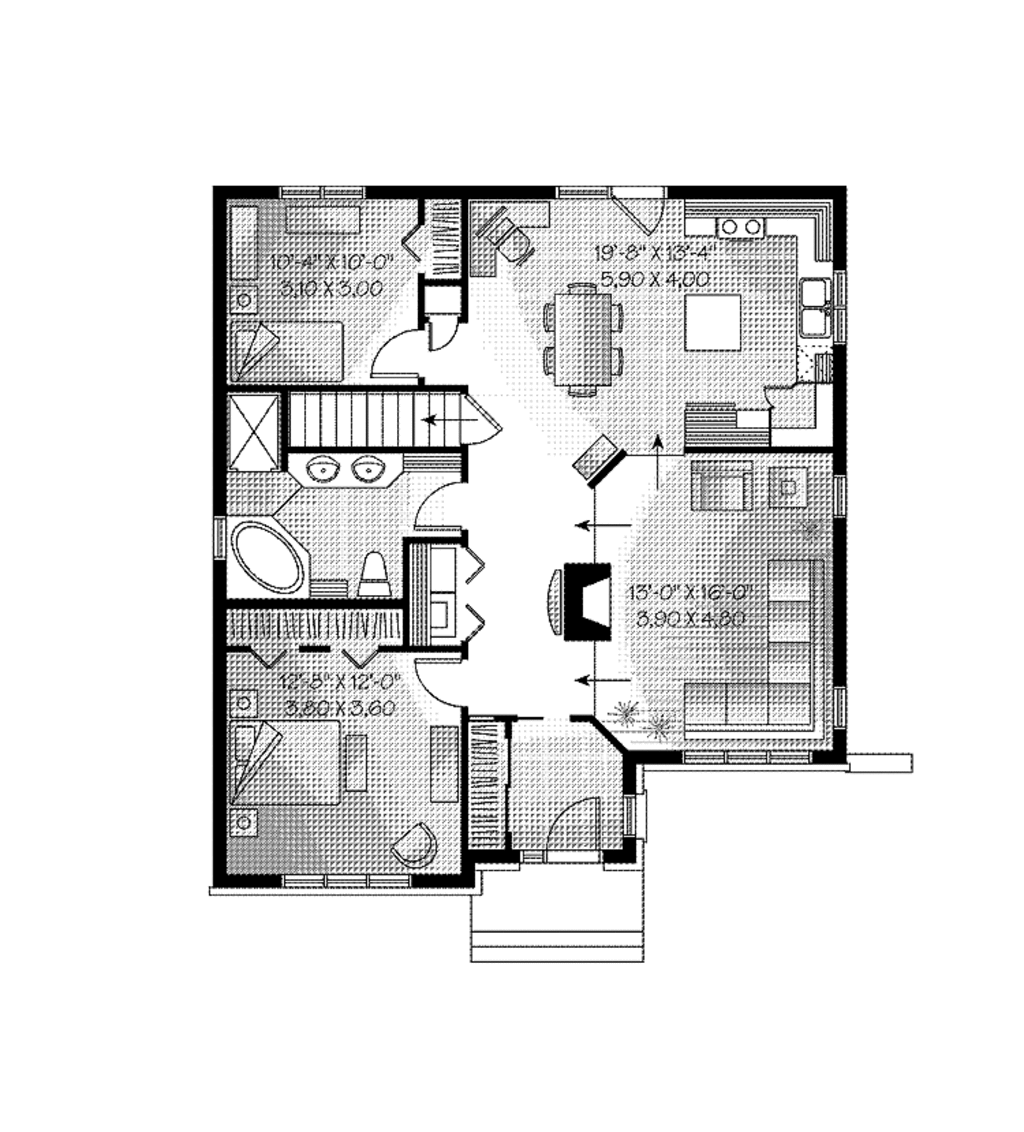bed: (220, 722, 372, 811), (228, 325, 358, 390)
dining_table: (527, 262, 639, 413)
door: (399, 646, 478, 716), (539, 792, 606, 864), (602, 181, 674, 244), (367, 330, 437, 381), (451, 385, 511, 443), (411, 308, 467, 350)
large_sink: (351, 550, 402, 604)
small_sink: (295, 455, 411, 492)
stairs: (262, 388, 467, 450)
twin_sink: (793, 269, 851, 350)
window: (269, 864, 411, 904), (671, 736, 809, 771), (820, 679, 864, 748), (829, 465, 858, 525)
